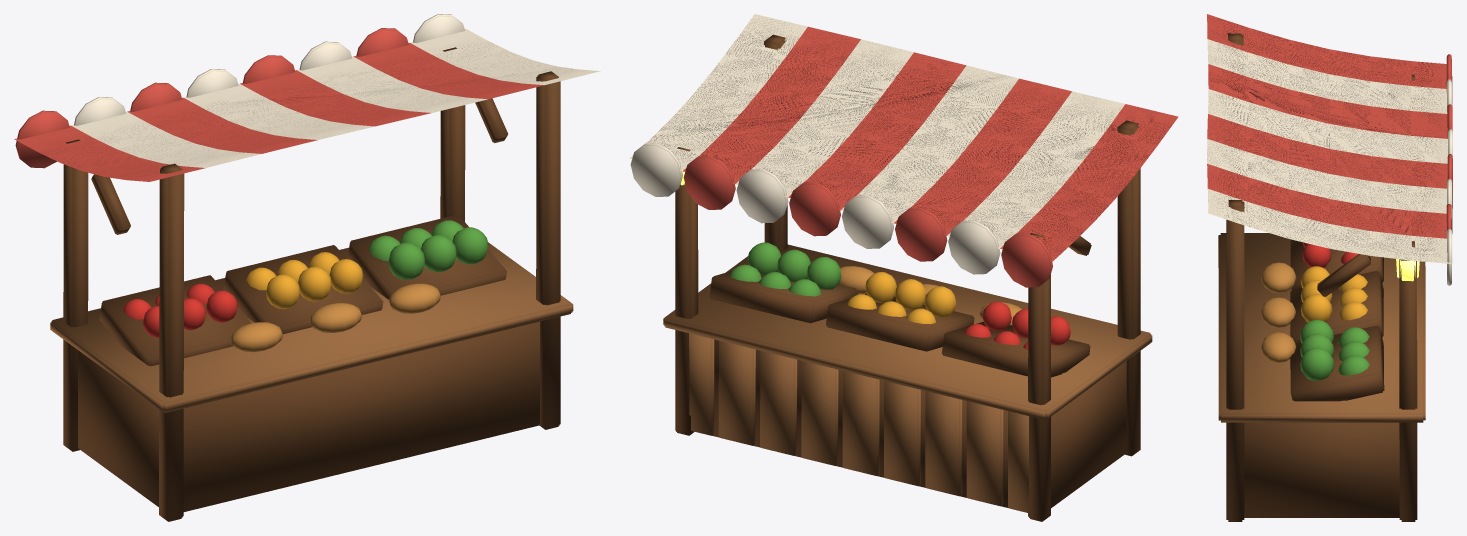
File: market_stall.glb
3 views of the same model, side by side, from view 1: azimuth 30°, elevation 25°; view 2: azimuth 150°, elevation 25°; view 3: azimuth 270°, elevation 25° (orthographic). The views are drawn at different scales.
Visible parts, largest first — view 1: market_stall; view 2: market_stall; view 3: market_stall.
Part boxes in pixels (x1,y1,x2,y2): market_stall: (14, 14, 600, 521); market_stall: (629, 14, 1178, 521); market_stall: (1207, 14, 1452, 521).
Bounding box in the file's own units: 3.75 × 2.82 × 1.95.
